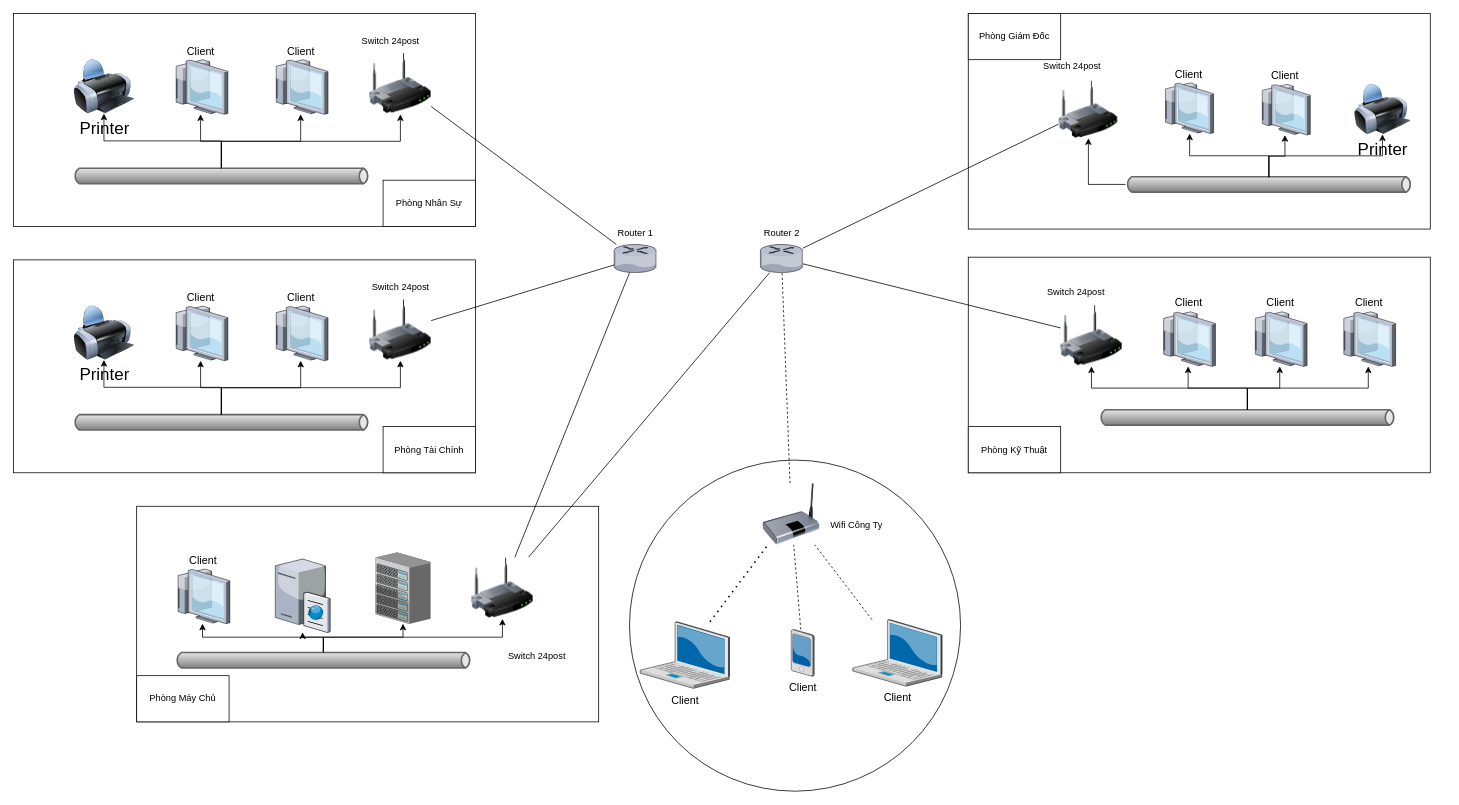
This 1459x805 diagram has some shape labels left out. Here are the shapes that lost their labels. From the top down, the centre of each, then its label:
At pixel 302 594: "Web Server".
At pixel 402 587: "DNS".
